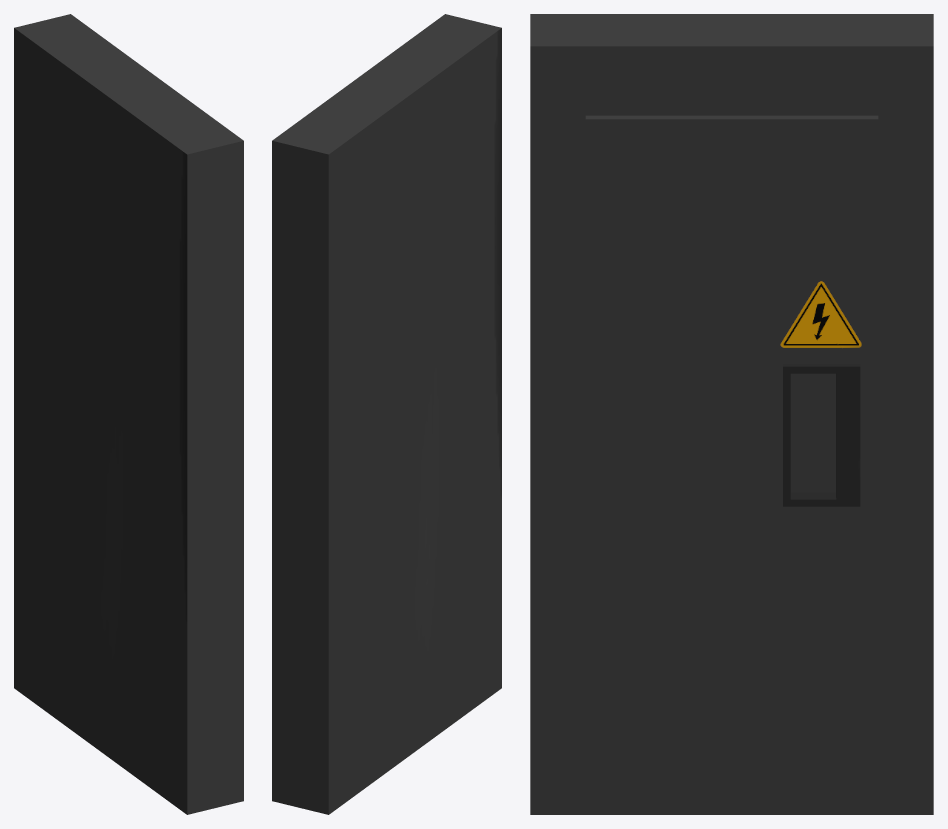
The model's file is Breaker Box.fbx.
3 views of the same model, side by side, from view 1: azimuth 30°, elevation 25°; view 2: azimuth 150°, elevation 25°; view 3: azimuth 270°, elevation 25° (orthographic). The views are drawn at different scales.
Visible parts, largest first — view 1: Cube; view 2: Cube; view 3: Cube.
Boxes of the visible parts, bbox=[...] form: Cube: bbox=[14, 14, 243, 814]; Cube: bbox=[272, 14, 501, 814]; Cube: bbox=[530, 14, 933, 814].
Size of the model in its own units: 65.83 by 617 by 293.
